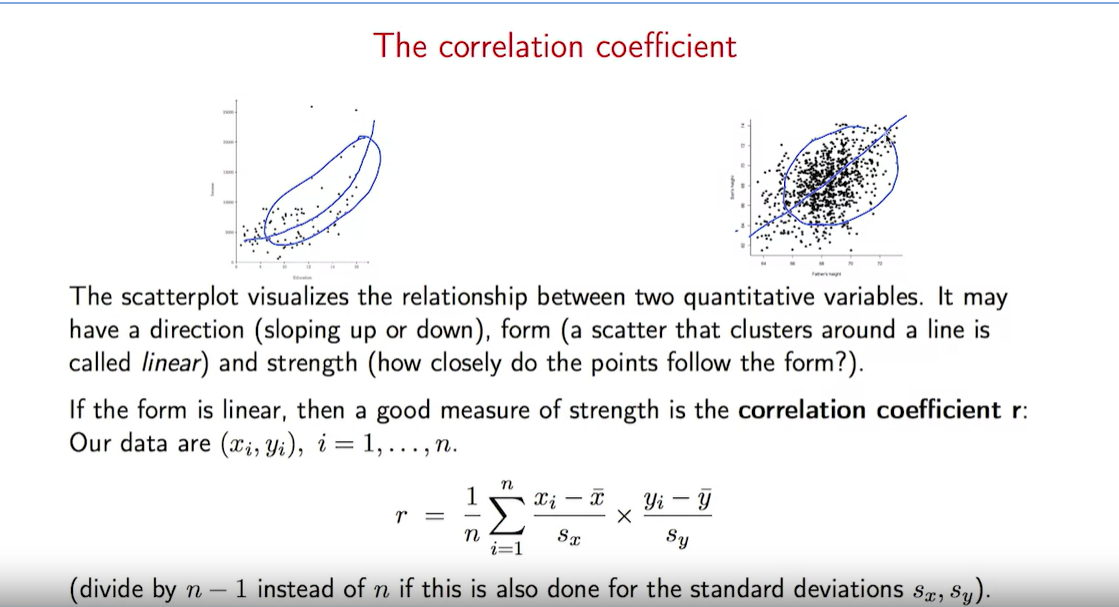equation: (393, 470, 720, 559)
figure: (207, 91, 396, 282), (724, 103, 911, 281)
text: (63, 285, 1015, 381), (67, 394, 1035, 460), (66, 569, 993, 607), (368, 31, 745, 69)
